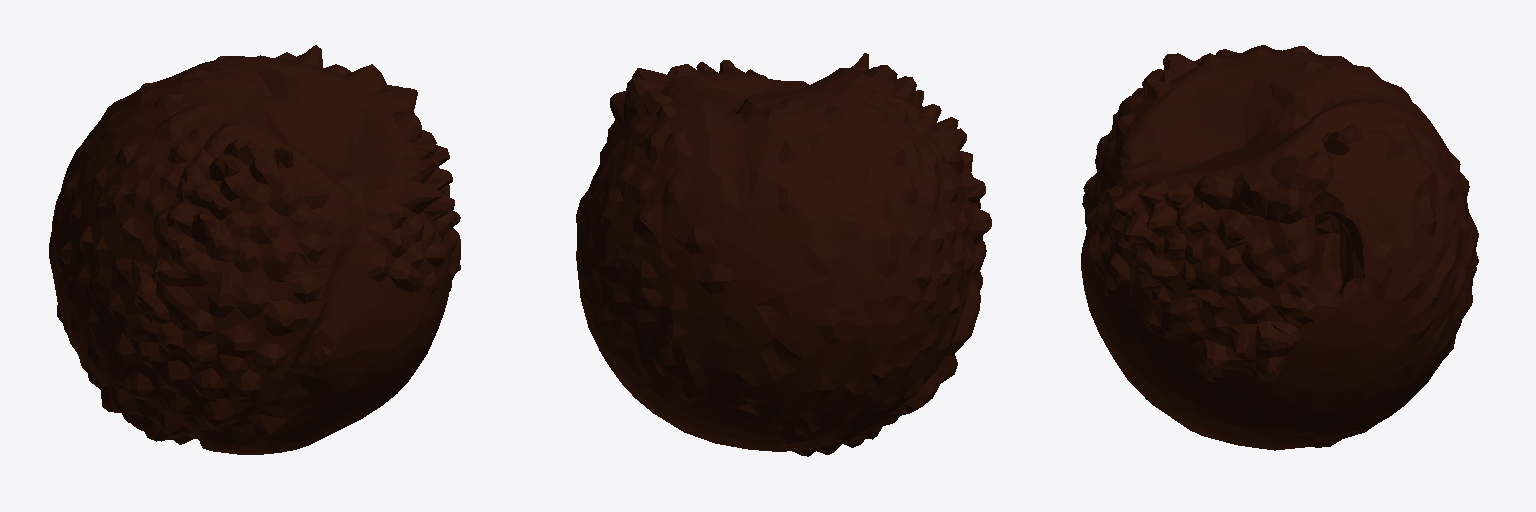
The model's file is oldglory.obj.
The picture shows the model from 3 angles: view 1: azimuth 30°, elevation 25°; view 2: azimuth 150°, elevation 25°; view 3: azimuth 270°, elevation 25°; orthographic projection.
Parts seen in each view (by area): view 1: Cube; view 2: Cube; view 3: Cube.
Part boxes in pixels (x1,y1,x2,y2): Cube: (49,45,460,454); Cube: (576,53,991,456); Cube: (1081,45,1478,450).
Size of the model in its own units: 1.79 by 1.66 by 1.71.